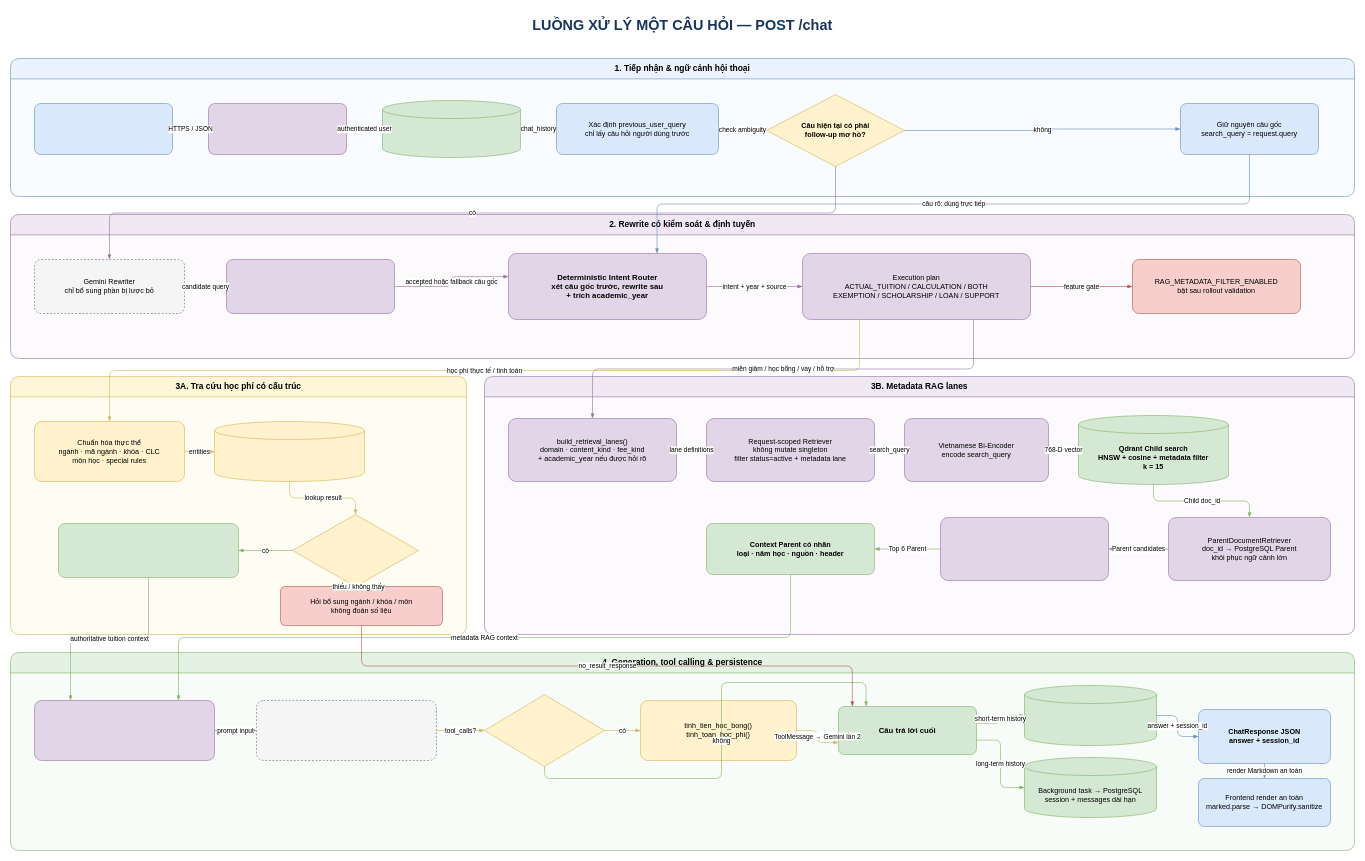
Some shapes in this 1365 by 861 pixel diagram are drawn without their labels. The centre of each missing label's shape, as x and y in pixels:
"BGE Reranker v2-m3 Cross-Encoder relevance + temporal tie-break → Top 6" goes at point (1024, 548).
"Context học phí ưu tiên tuyệt đối mức tiền · đơn vị · năm · nguồn" goes at point (148, 550).
"FastAPI dependency get_current_user()" goes at point (277, 128).
"Frontend Câu hỏi gốc + session_id" goes at point (103, 128).
"Gemini Main LLM sinh câu trả lời / quyết định gọi tool" goes at point (346, 730).
"Ghép Context + retrieval instruction + câu hỏi gốc + chat history" goes at point (124, 730).
"Redis LRANGE 5 tin nhắn gần nhất" goes at point (451, 129).
"Redis RPUSH/LTRIM lịch sử ngắn hạn" goes at point (1090, 715).
"Tool cần thiết?" goes at point (544, 730).
"TuitionRateCatalog.lookup() data/tuition_rates.json" goes at point (289, 451).
"Tìm thấy bản ghi đủ thực thể?" goes at point (355, 550).
"validate_rewritten_query() chặn thực thể / số liệu bị tự thêm" goes at point (310, 286).
